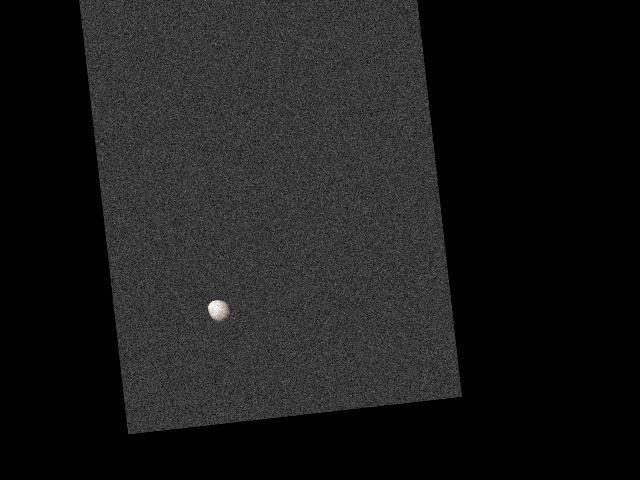egg: (207, 298, 232, 324)
